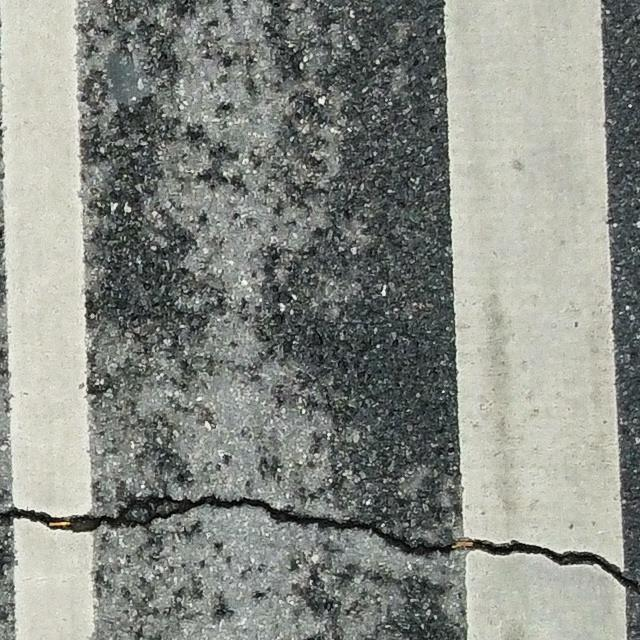TransverseCrack: (1, 495, 640, 593)
